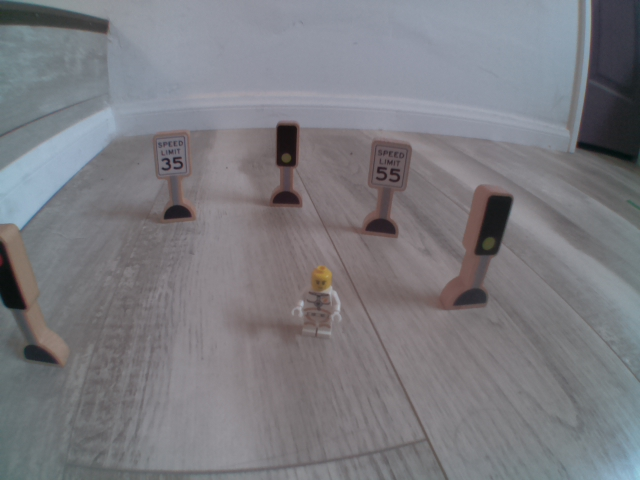Green Traffic Light: (463, 179, 517, 264), (271, 115, 305, 171)
Speed Limit 35: (146, 130, 195, 177)
Speed Limit 55: (368, 131, 415, 197)
person: (283, 253, 357, 345)
